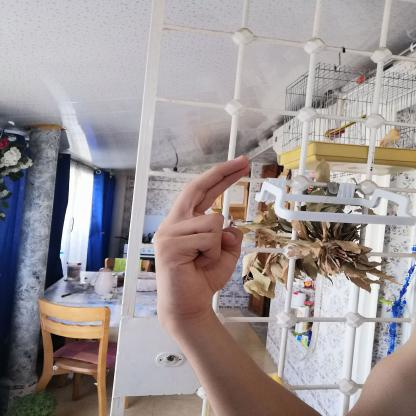ZAY: (146, 146, 262, 324)
